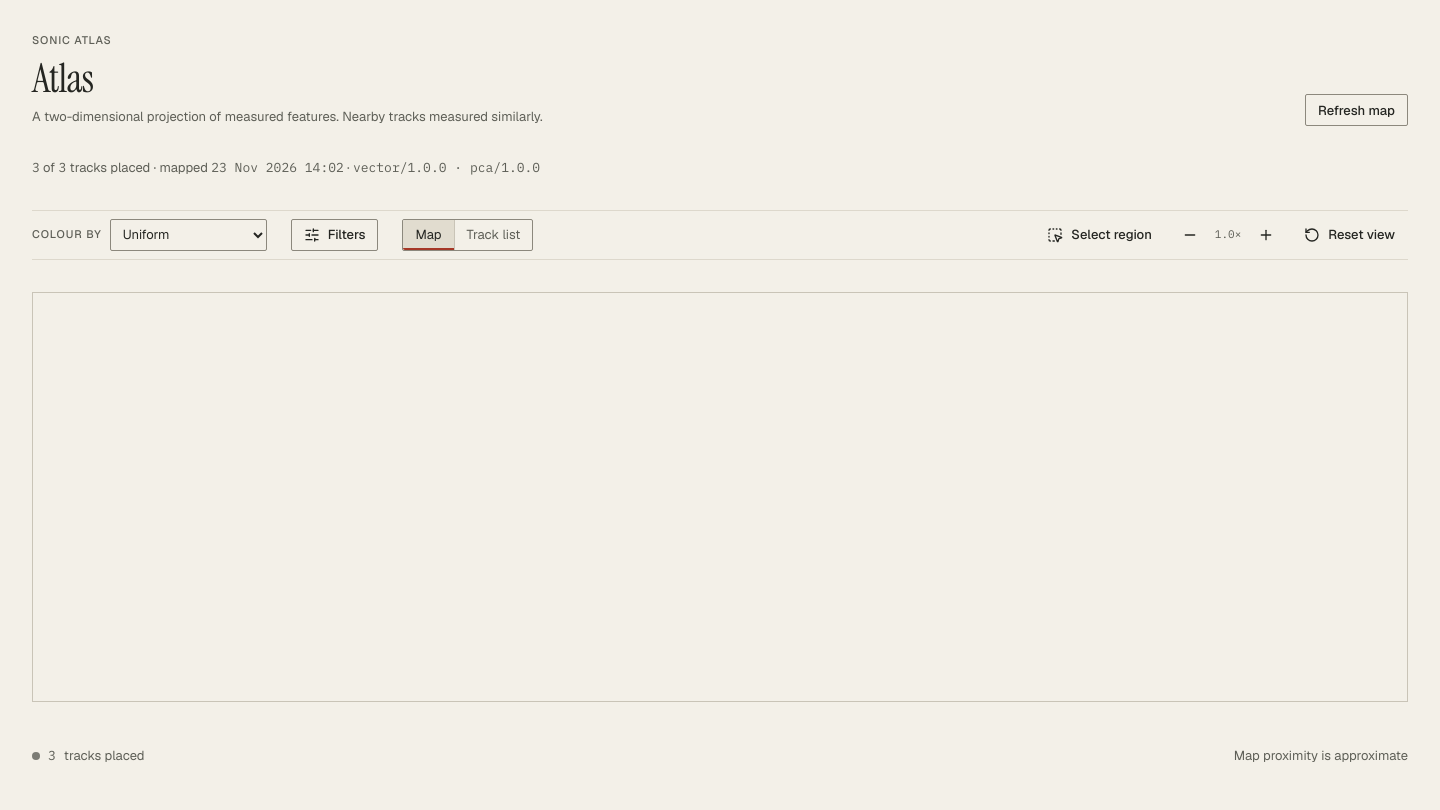
AtlasPage › marks an unparseable bound and keeps the map when nothing matches
The width and height of the screenshot is (1440, 810).
Expected: the element named "Sonic Atlas map. Arrow keys pan, plus and minus zoom, Home r" is shown, [32,292,1408,702]
Click the button "Filters": (334, 234) [291,218,378,250]
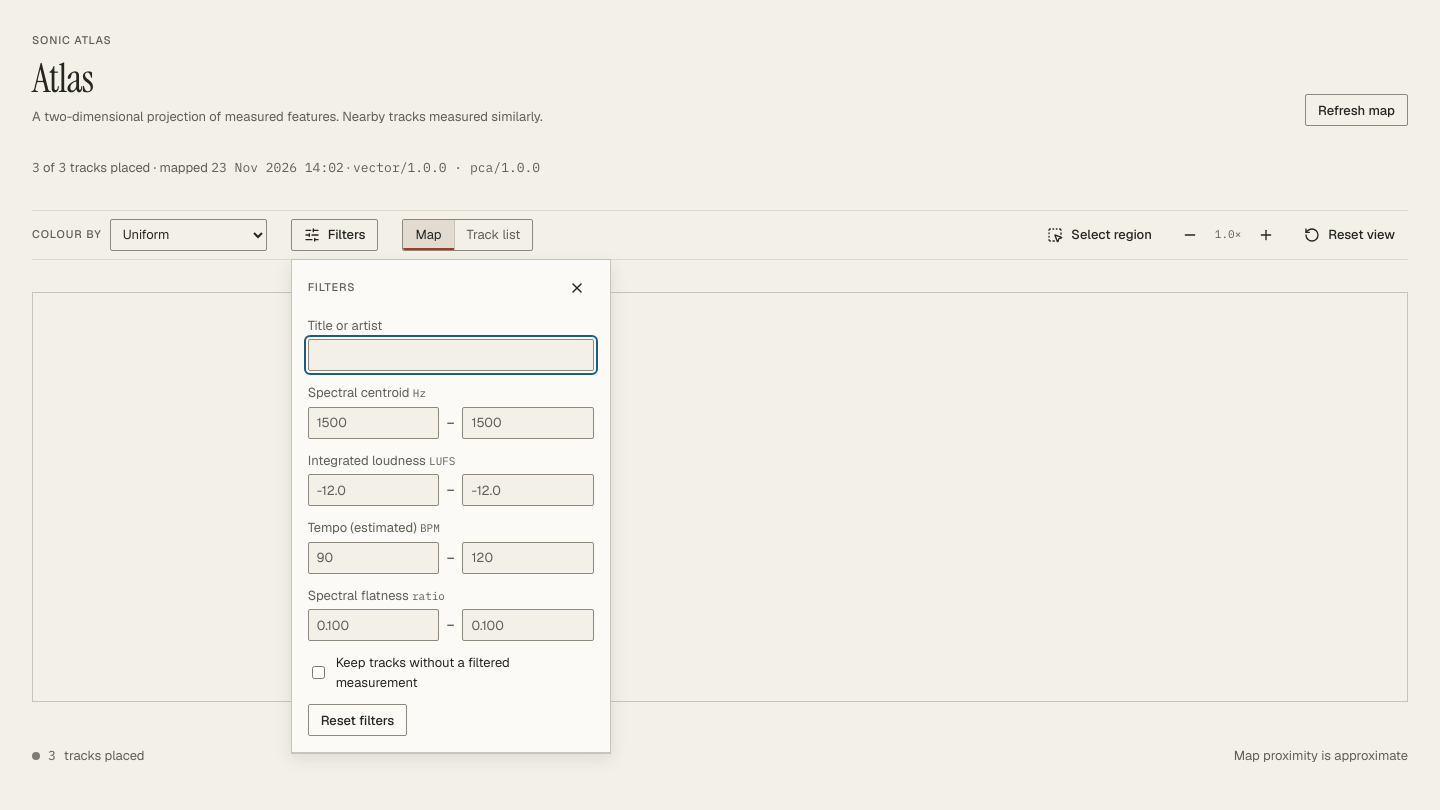
In the field named "Tempo (estimated) maximum, BPM": (528, 558) [462,542,594,574], type "fast"
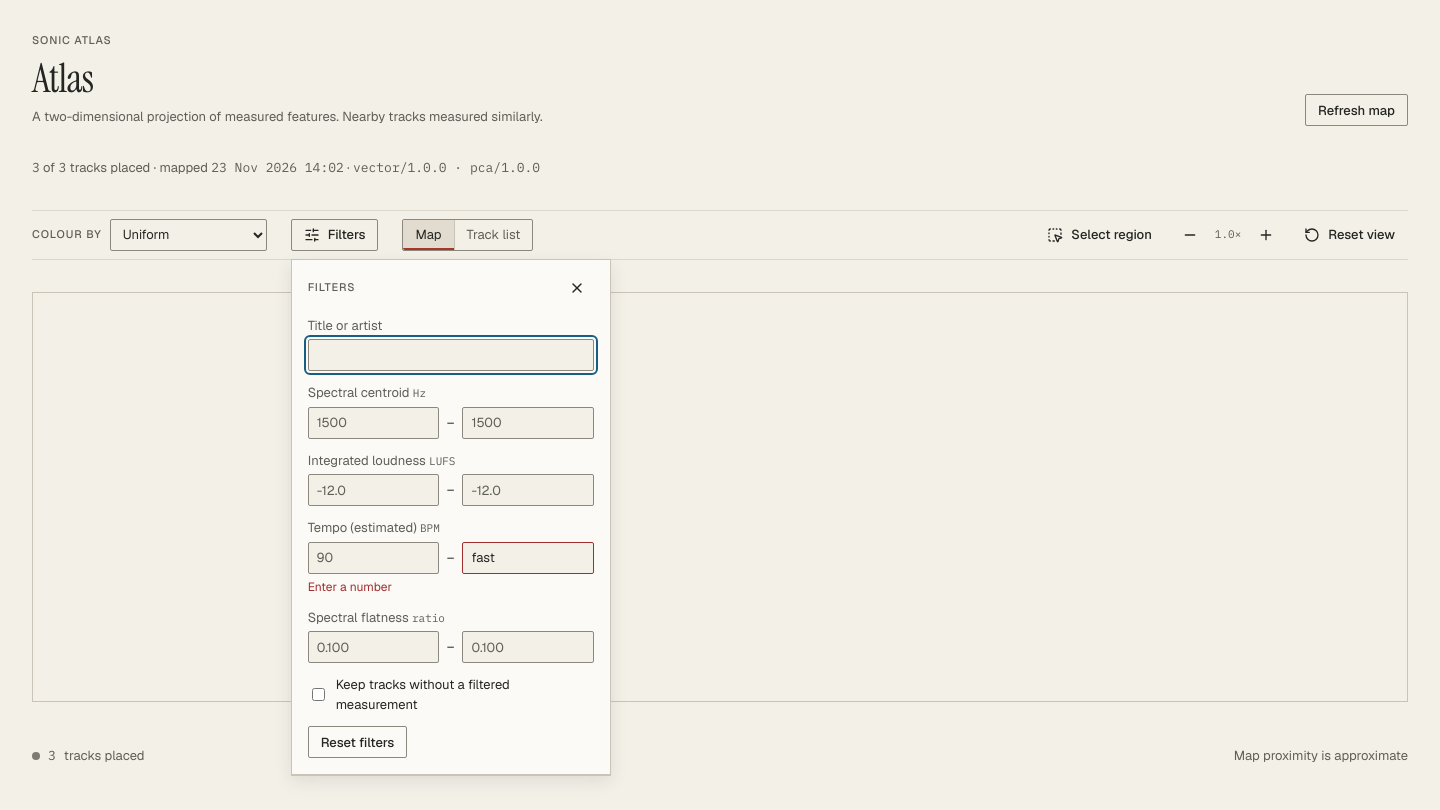
Expected: the text "Enter a number" is shown, [308,578,392,594]
In the search field: (451, 355) [308,339,594,371], type "zzz"
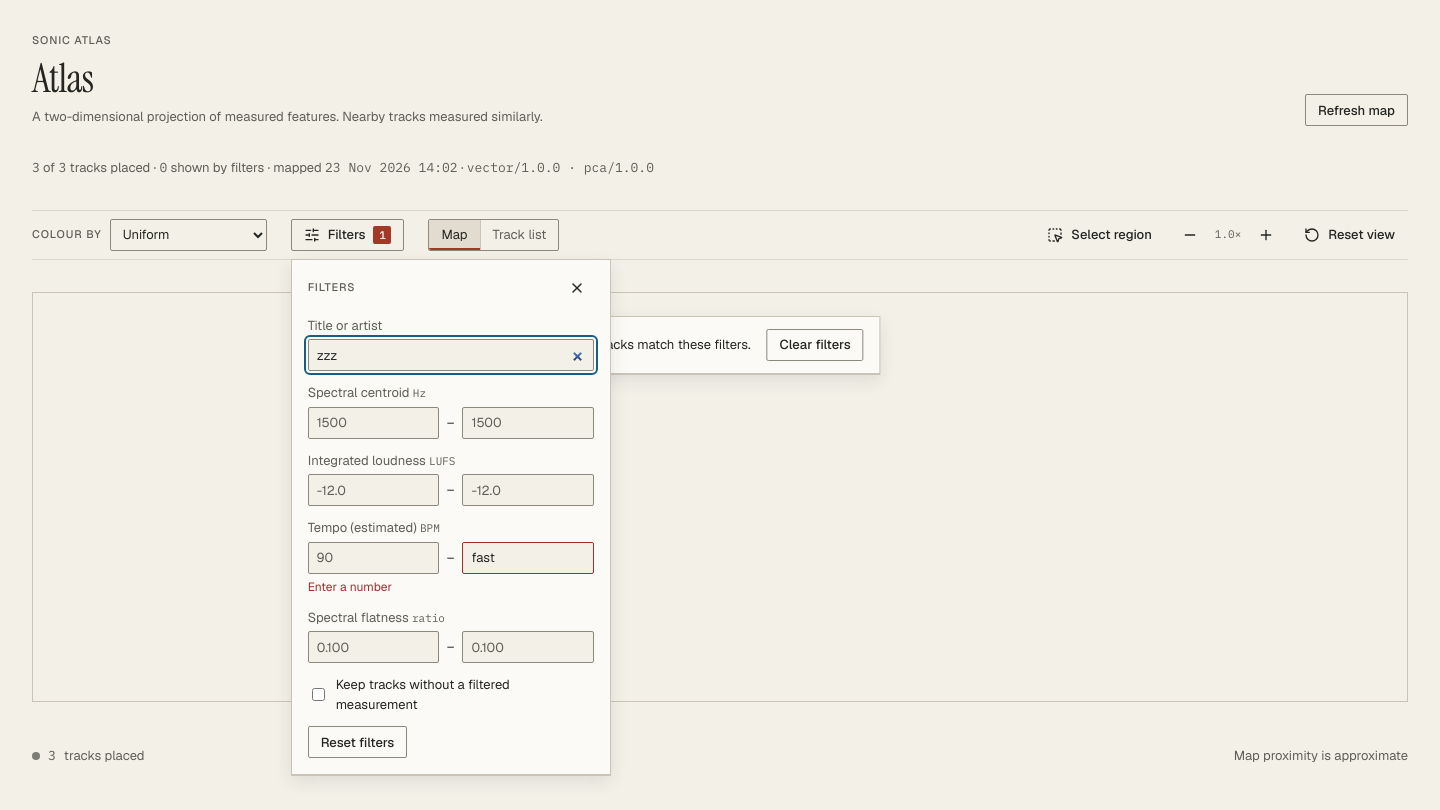
Expected: the element named "Sonic Atlas map. Arrow keys pan, plus and minus zoom, Home r" is shown, [32,292,1408,702]
Expected: the text "No tracks match these filters." is shown, [576,335,751,354]
Click the button "Clear filters": (815, 344) [767,328,864,360]
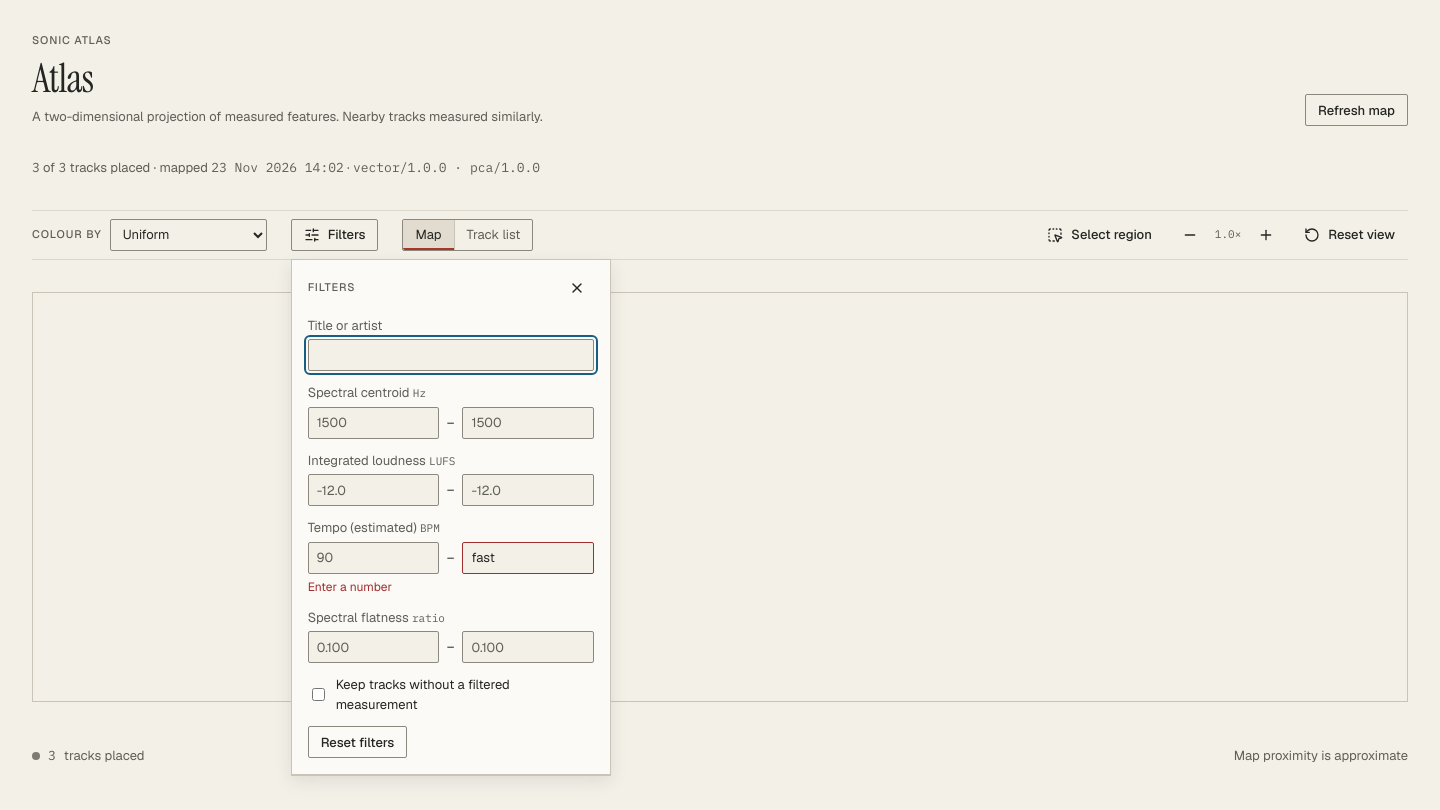
Expected: the text "No tracks match these filters." is gone
